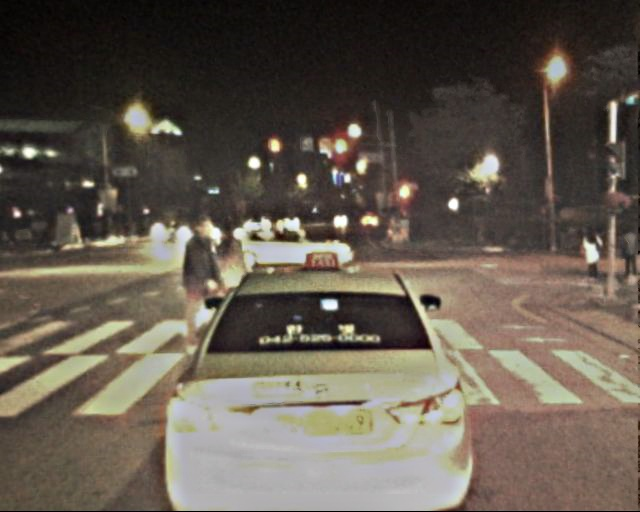person: (166, 215, 225, 359), (212, 225, 251, 321), (579, 227, 604, 288), (619, 226, 640, 282)
